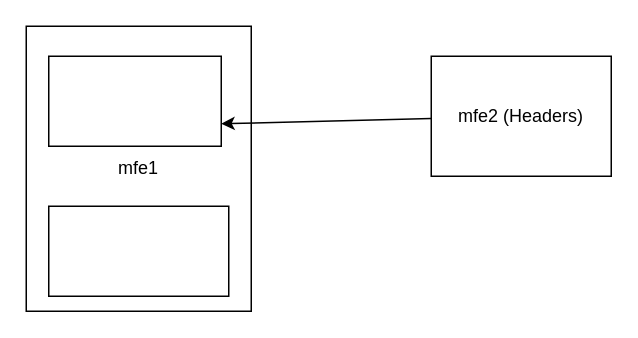
Image size: 638x338. Some labels were removed from this diagram. Each missing label, with the centre of its shape:
"Blogs" goes at pixel 138 250.
"header" goes at pixel 134 100.
